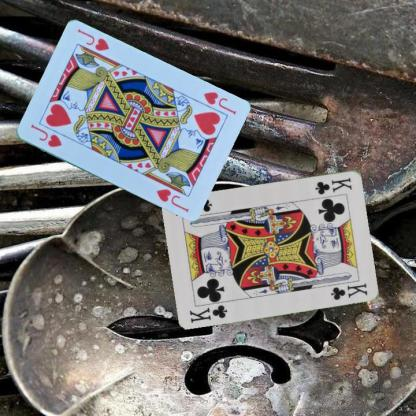Jh: (200, 89, 237, 116), (28, 121, 63, 149)
Kc: (312, 174, 354, 196), (187, 302, 229, 324)
